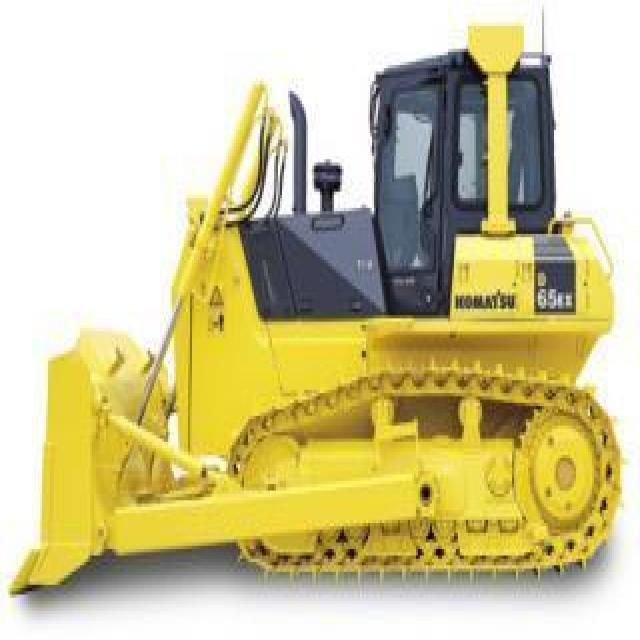Bulldozer: (12, 19, 622, 592)
